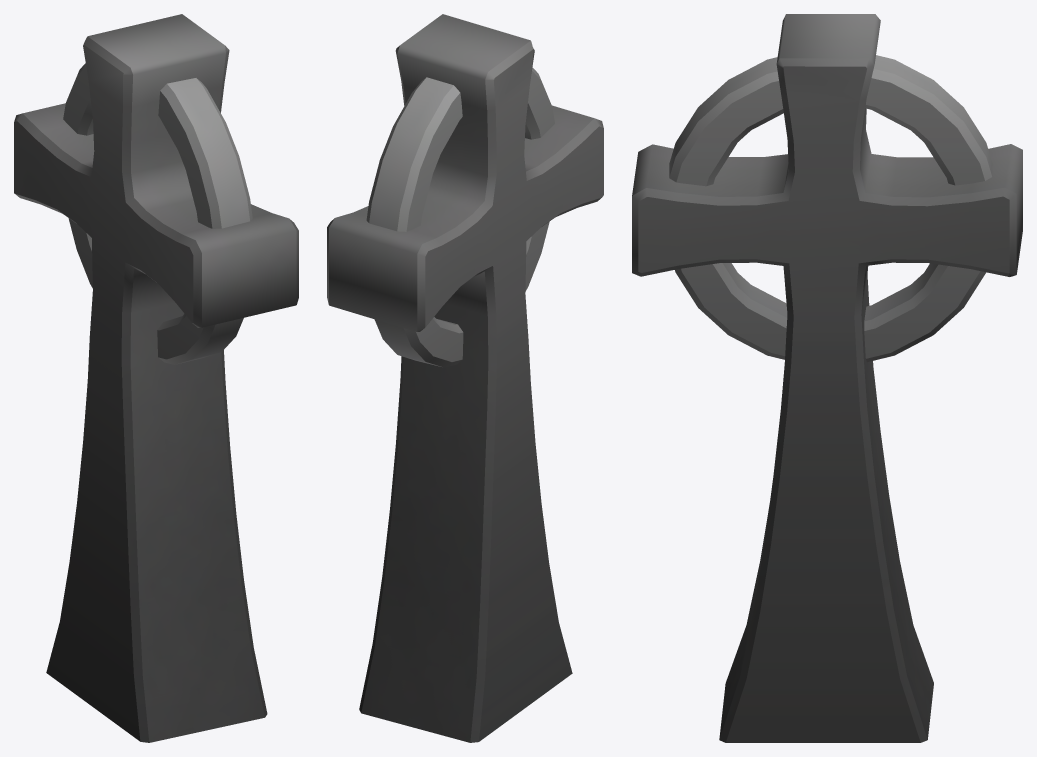
Rendered from Cross_5.obj.
3 renders of one model, left to right at view 1: azimuth 30°, elevation 25°; view 2: azimuth 150°, elevation 25°; view 3: azimuth 270°, elevation 25°, orthographic. The views are drawn at different scales.
Parts seen in each view (by area): view 1: Cross_5; view 2: Cross_5; view 3: Cross_5.
Part boxes in pixels (bbox=[...]): Cross_5: bbox=[14, 14, 298, 742]; Cross_5: bbox=[327, 14, 603, 742]; Cross_5: bbox=[632, 14, 1022, 742].
Size of the model in its own units: 0.2501 by 1.26 by 0.6605.
